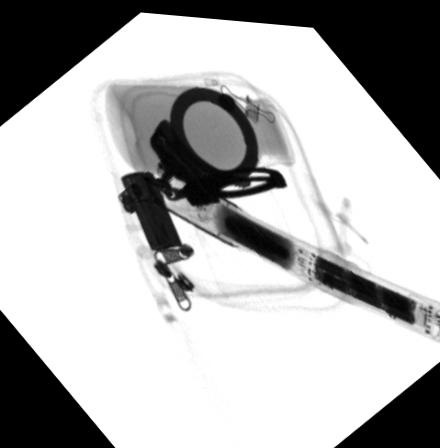Baton: (155, 160, 440, 335)
HandCuffs: (146, 85, 284, 206)
Lighter: (119, 168, 181, 247)
